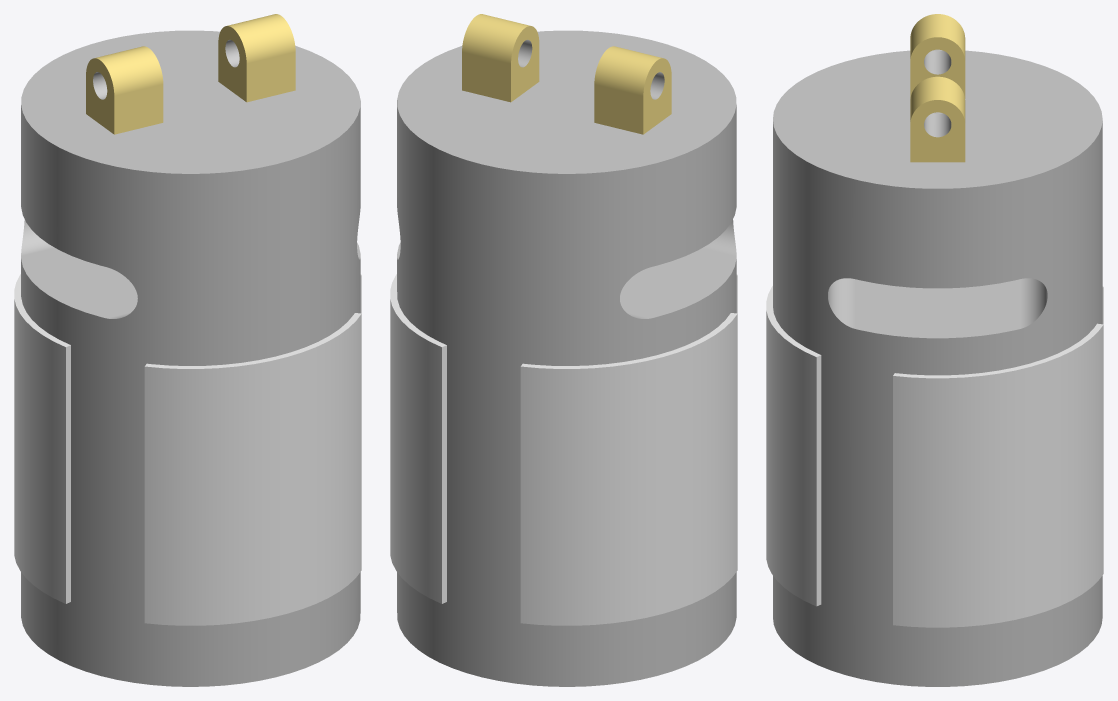
Rendered from Motor - Part 1.gltf.
The picture shows the model from 3 angles, left to right: view 1: azimuth 30°, elevation 25°; view 2: azimuth 150°, elevation 25°; view 3: azimuth 270°, elevation 25°; orthographic projection. The views are drawn at different scales.
Visible parts, largest first — view 1: Part 1; view 2: Part 1; view 3: Part 1.
Boxes of the visible parts, bbox=[...] form: Part 1: bbox=[14, 14, 361, 686]; Part 1: bbox=[390, 14, 737, 686]; Part 1: bbox=[766, 14, 1103, 686].
Size of the model in its own units: 0.0317 by 0.0609 by 0.0312.
